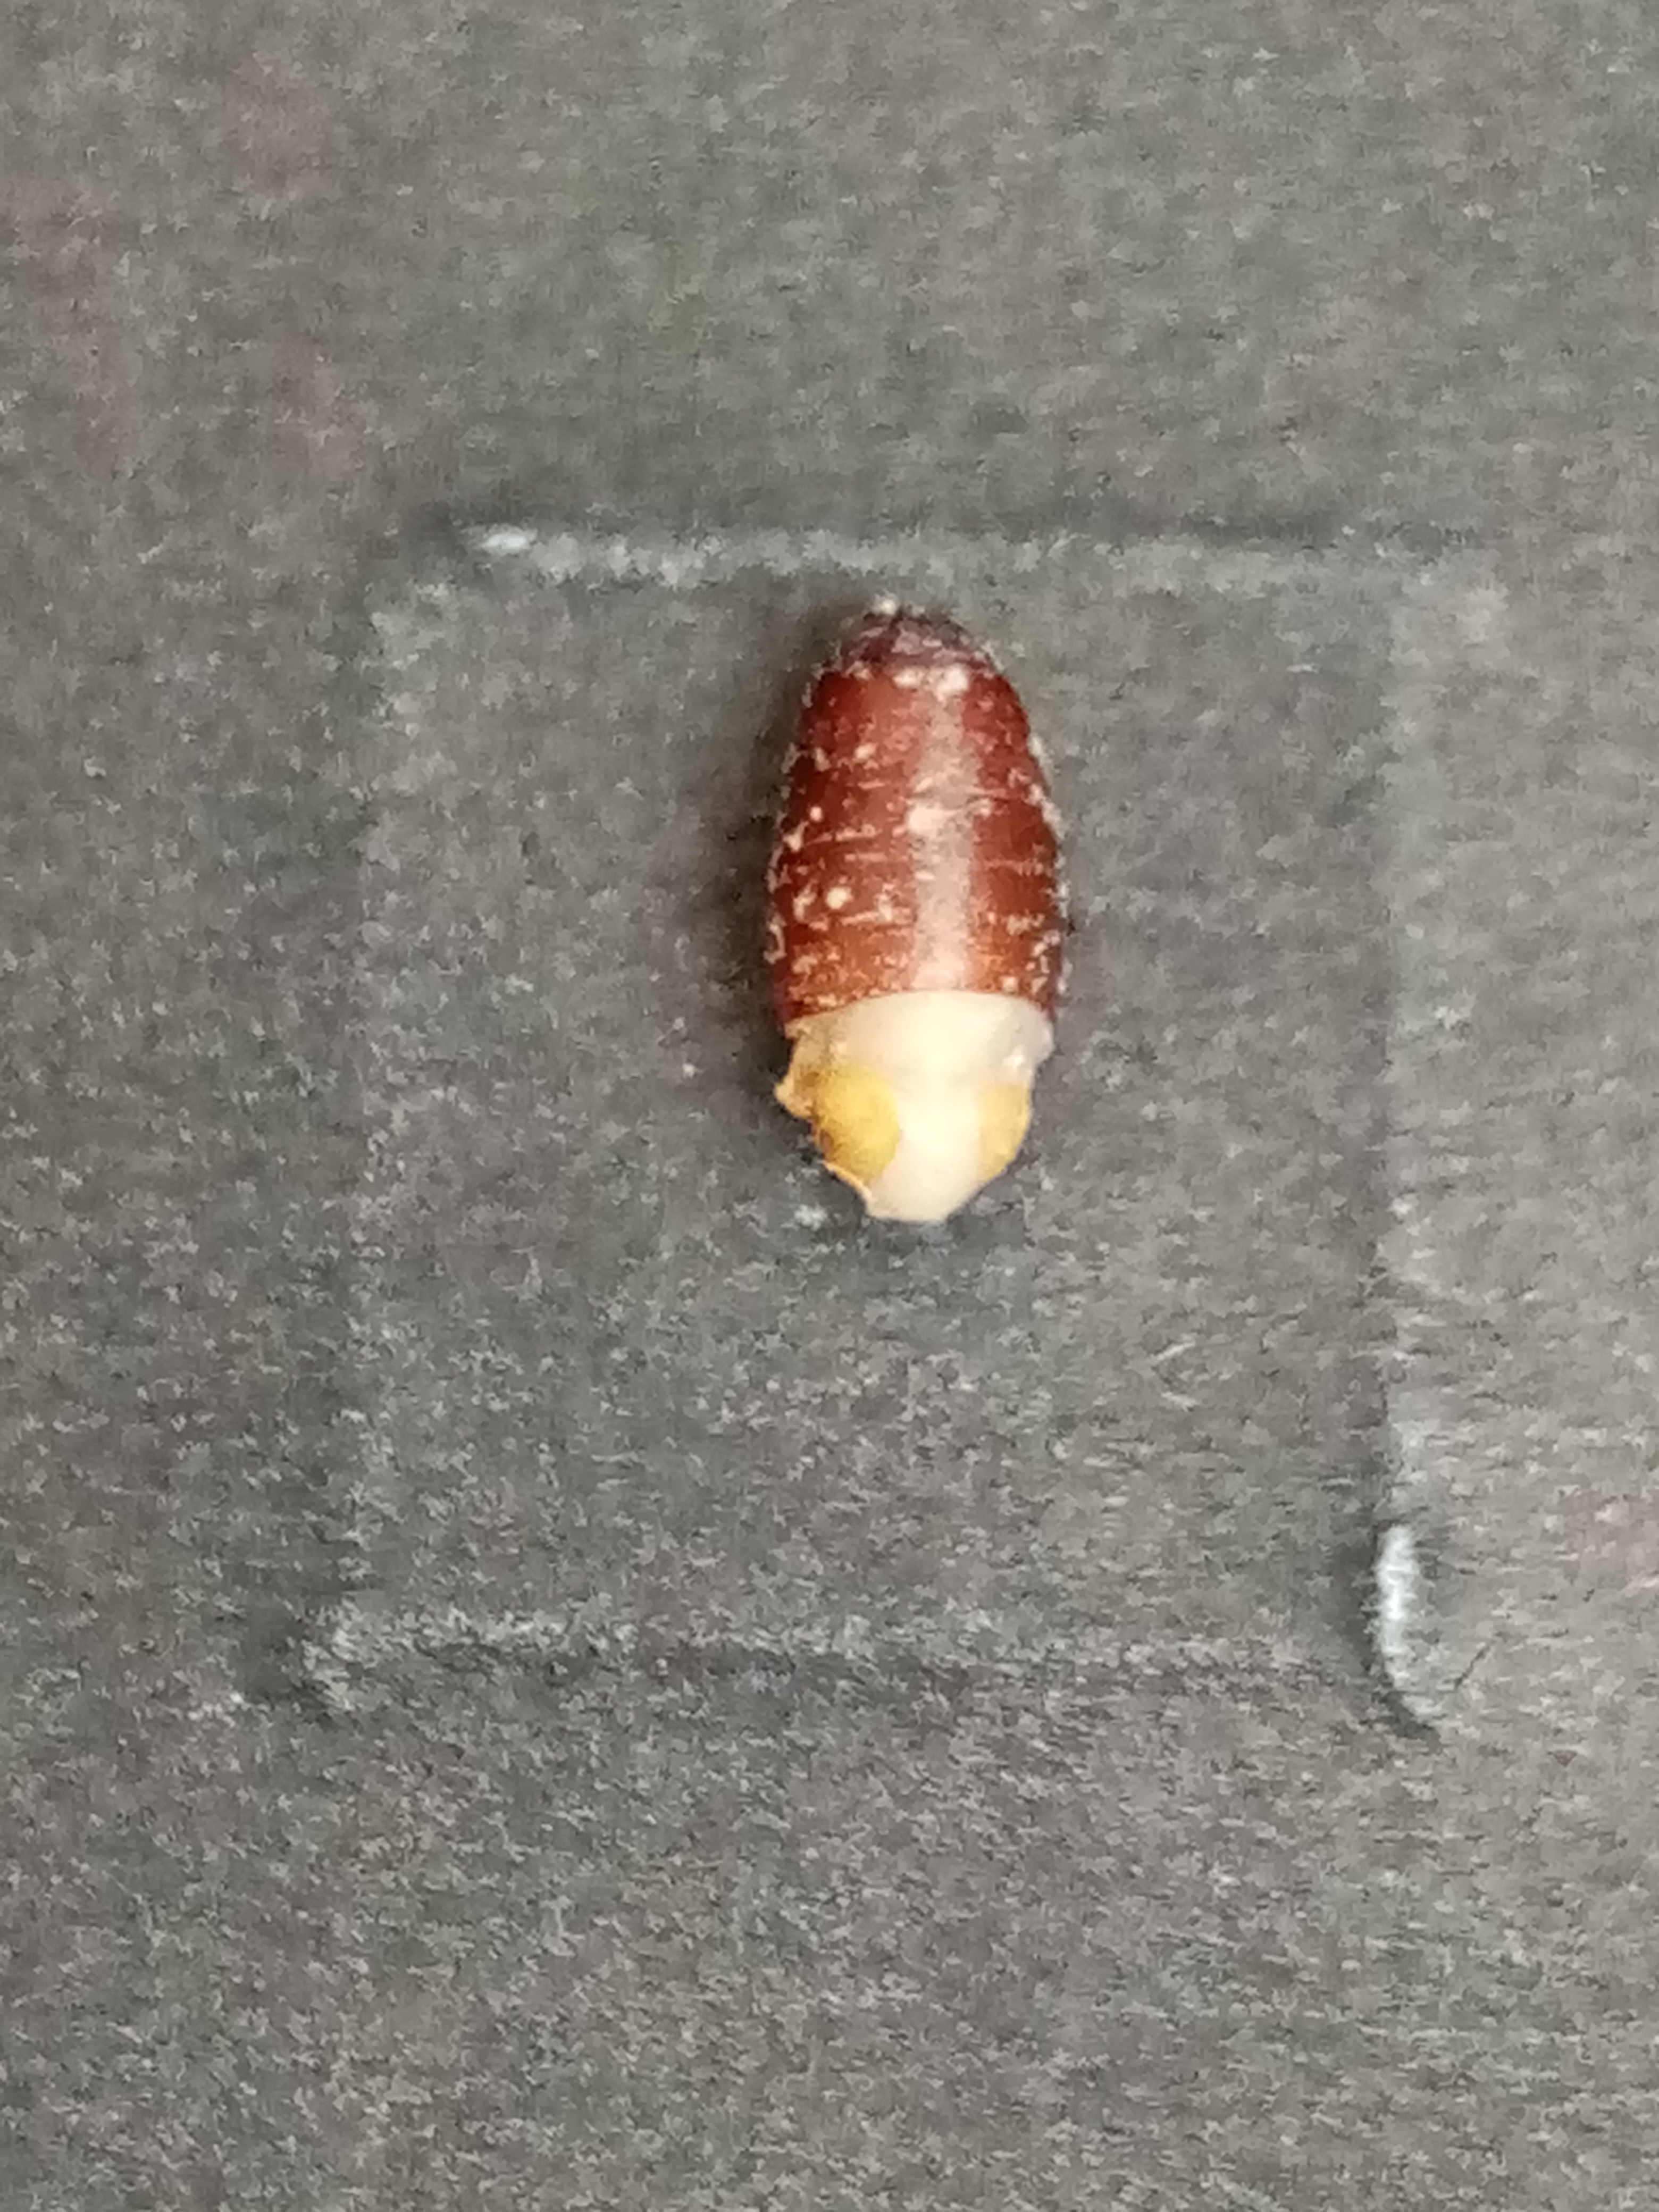pupa: (795, 1036, 1047, 1230)
